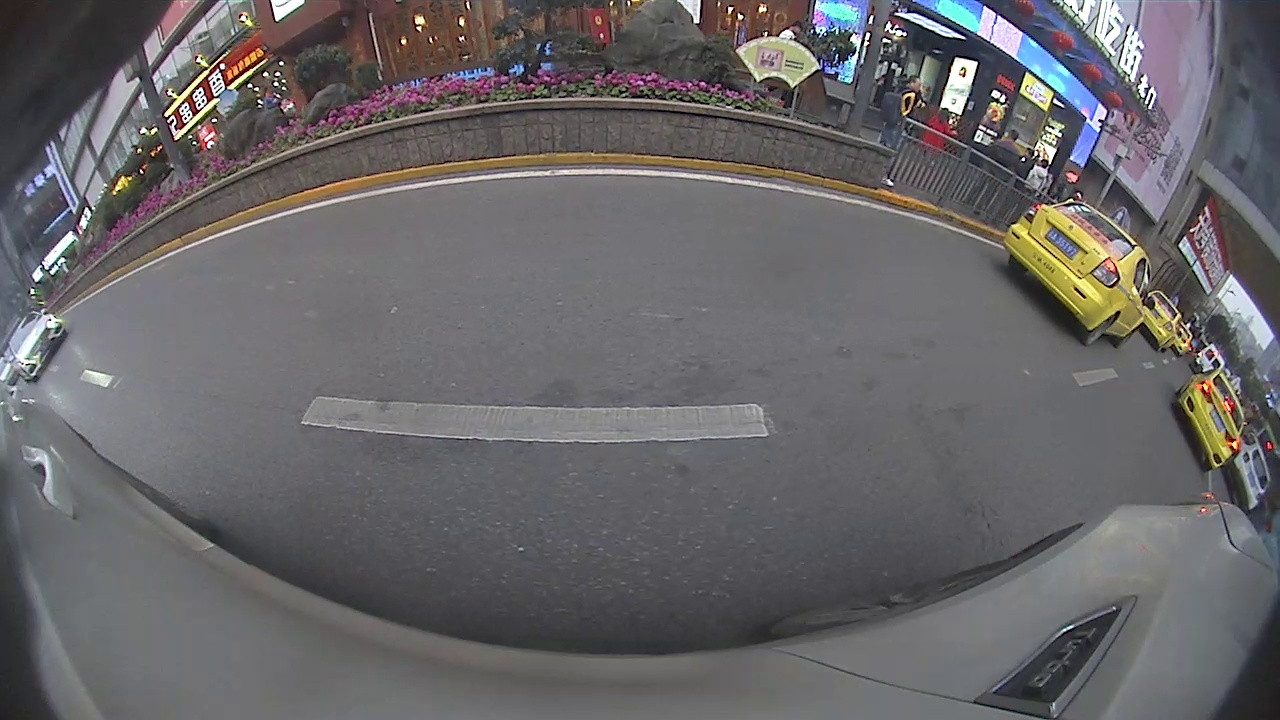car: (1002, 198, 1157, 347), (1168, 360, 1247, 471), (3, 307, 69, 382)
person: (878, 73, 923, 189)
rear: (1079, 314, 1120, 349)
